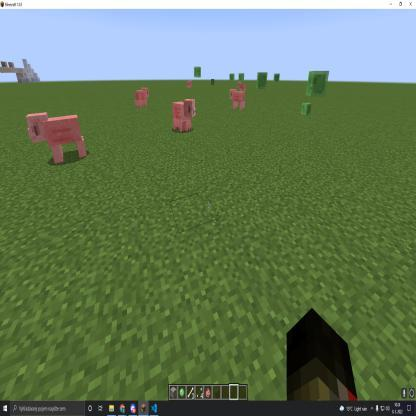pig: (19, 108, 100, 174), (169, 95, 199, 137), (226, 83, 247, 115), (132, 86, 152, 112), (238, 77, 247, 94), (184, 78, 194, 92)
